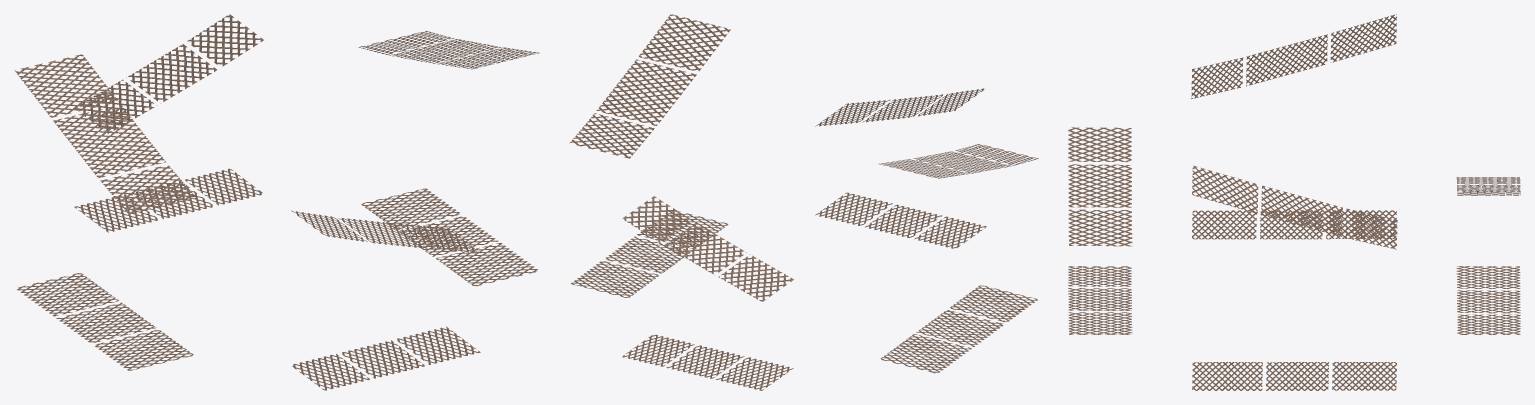
Rendered from SM_NeoLD_11_WireMesh_00.fbx.
The picture shows the model from 3 angles, left to right: view 1: azimuth 30°, elevation 25°; view 2: azimuth 150°, elevation 25°; view 3: azimuth 270°, elevation 25°; orthographic projection. The views are drawn at different scales.
Visible parts, largest first — view 1: SM_NeoLD_11_WireMesh_00; view 2: SM_NeoLD_11_WireMesh_00; view 3: SM_NeoLD_11_WireMesh_00.
Part boxes in pixels (x1,y1,x2,y2): SM_NeoLD_11_WireMesh_00: (14, 14, 539, 390); SM_NeoLD_11_WireMesh_00: (569, 14, 1038, 390); SM_NeoLD_11_WireMesh_00: (1068, 14, 1520, 390).
Size of the model in its own units: 1904 by 962 by 2011.
